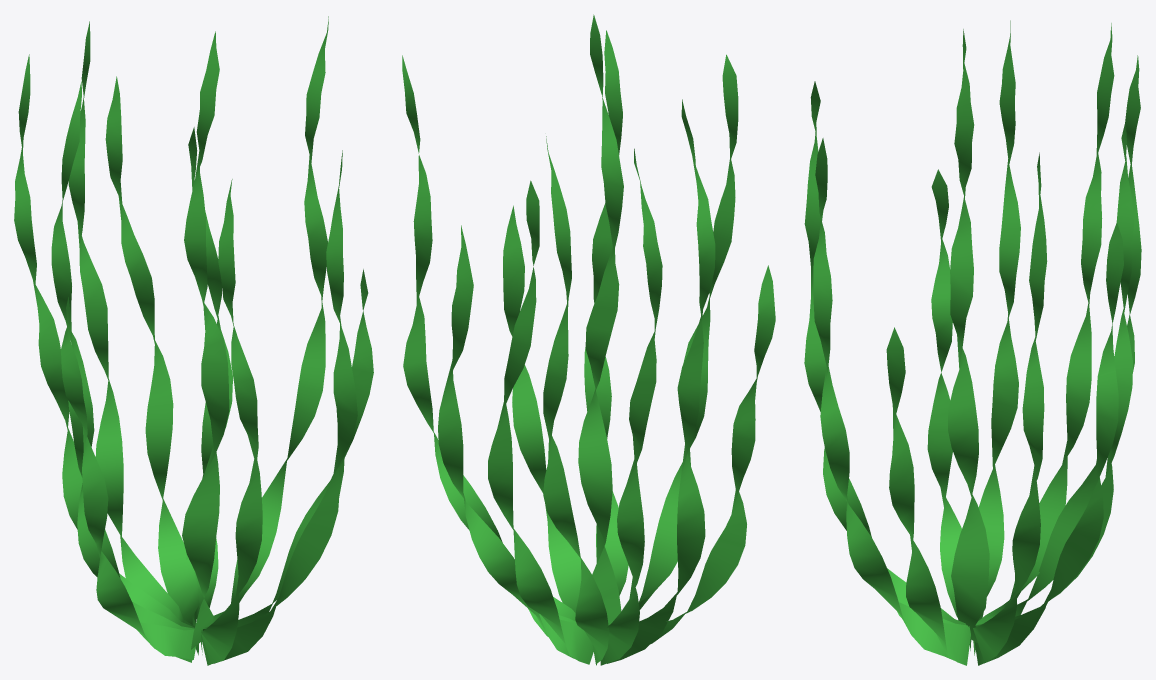
The model's file is coral_kelp_crown_B_medium_wiggle.fbx.
3 views of the same model, side by side, from view 1: azimuth 30°, elevation 25°; view 2: azimuth 150°, elevation 25°; view 3: azimuth 270°, elevation 25° (orthographic).
Visible parts, largest first — view 1: coral_kelp_crown_B_medium_wiggle; view 2: coral_kelp_crown_B_medium_wiggle; view 3: coral_kelp_crown_B_medium_wiggle.
Boxes of the visible parts, x1,y1,x2,y2 form: coral_kelp_crown_B_medium_wiggle: (14,16,373,665); coral_kelp_crown_B_medium_wiggle: (402,14,775,665); coral_kelp_crown_B_medium_wiggle: (804,20,1141,665).
Bounding box in the file's own units: 67.31 × 128 × 61.32.
